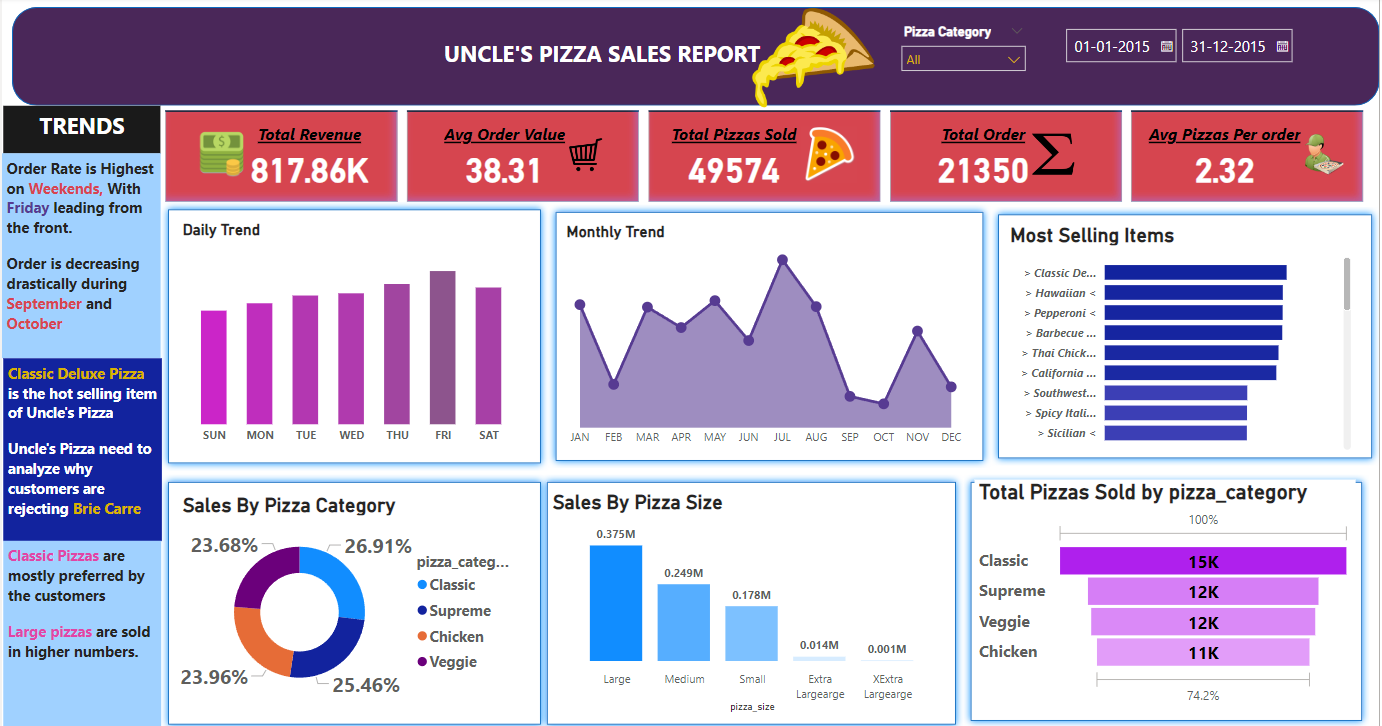

This screenshot's page, from the dashboard's own definition file:
{"tool":"powerbi","page":{"name":"Page 1","canvas":[1500,800],"ordinal":0},"visuals":[{"type":"cardVisual","fields":{"Data":["pizza_sales.Total Revenue","pizza_sales.Average Order Value","pizza_sales.Total Pizzas Sold","pizza_sales.Total Order","pizza_sales.Average Pizzas Per order"]},"box":[172.9,118.5,1316.7,110.3],"z":0},{"type":"shape","box":[10.9,10.9,1489.7,107.6],"z":1000},{"type":"textbox","box":[476.6,40.8,434.4,68.1],"z":2000},{"type":"image","box":[776.1,6.8,215.1,118.5],"z":3000},{"type":"shape","box":[172.9,223.3,422.1,292.8],"z":4000},{"type":"columnChart","title":"Daily Trend","fields":{"Category":["pizza_sales.Order Day"],"Y":["pizza_sales.Total Order"]},"box":[192,243.7,378.5,251.9],"z":5000},{"type":"shape","box":[595,226,482,287.3],"z":6000},{"type":"areaChart","title":"Monthly Trend","fields":{"Category":["pizza_sales.Order Month"],"Y":["pizza_sales.Total Order"]},"box":[610,245.1,443.9,253.3],"z":7000},{"type":"shape","box":[172.9,520.2,422.1,280.5],"z":8000},{"type":"shape","box":[585.5,520.2,461.6,280.5],"z":9000},{"type":"shape","box":[1047.1,520.2,442.5,276.4],"z":10000},{"type":"donutChart","title":"Sales By Pizza Category","fields":{"Category":["pizza_sales.pizza_category"],"Y":["pizza_sales.Total Revenue"]},"box":[192,540.6,378.5,235.6],"z":11000},{"type":"clusteredColumnChart","title":"Sales By Pizza Size","fields":{"Y":["pizza_sales.Total Revenue"],"Category":["pizza_sales.pizza_size"]},"box":[595,537.9,434.4,246.5],"z":12000},{"type":"funnel","fields":{"Category":["pizza_sales.pizza_category"],"Y":["pizza_sales.Total Pizzas Sold"]},"box":[1059.4,525.6,415.3,250.5],"z":13000},{"type":"textbox","box":[1.4,118.5,171.6,51.7],"z":14000},{"type":"textbox","box":[0,170.2,172.9,223.3],"z":15000},{"type":"shape","box":[1077.1,228.8,423.5,281.9],"z":16000},{"type":"barChart","title":"Most Selling Items","fields":{"Category":["pizza_sales.Trim Pizza Name"],"Y":["pizza_sales.Total Order"]},"box":[1093.4,246.5,381.3,251.9],"z":17000},{"type":"textbox","box":[1.4,393.5,172.9,198.8],"z":18000},{"type":"textbox","box":[1,593,172,207],"z":19000},{"type":"slicer","fields":{"Values":["pizza_sales.Order Day"]},"box":[969.5,24.5,155.2,84.4],"z":20000},{"type":"slicer","fields":{"Values":["pizza_sales.order_date"]},"box":[1146.5,24.5,271,76.3],"z":21000}]}

Visuals, with their boxes in screenshot pixels (x1, y1, x2, y2), scaled from the page's 1500x800 canvas onto the 1382x726 screenshot:
cardVisual - pizza_sales.Total Revenue x pizza_sales.Average Order Value: <box>159,108,1372,208</box>
shape: <box>10,10,1381,108</box>
textbox: <box>439,37,839,99</box>
image: <box>715,6,913,114</box>
shape: <box>159,203,548,468</box>
"Daily Trend" columnChart: <box>177,221,526,450</box>
shape: <box>548,205,992,466</box>
"Monthly Trend" areaChart: <box>562,222,971,452</box>
shape: <box>159,472,548,725</box>
shape: <box>539,472,965,725</box>
shape: <box>965,472,1372,723</box>
"Sales By Pizza Category" donutChart: <box>177,491,526,704</box>
"Sales By Pizza Size" clusteredColumnChart: <box>548,488,948,712</box>
funnel - pizza_sales.pizza_category x pizza_sales.Total Pizzas Sold: <box>976,477,1359,704</box>
textbox: <box>1,108,159,154</box>
textbox: <box>0,154,159,357</box>
shape: <box>992,208,1381,463</box>
"Most Selling Items" barChart: <box>1007,224,1359,452</box>
textbox: <box>1,357,161,538</box>
textbox: <box>1,538,159,725</box>
slicer - pizza_sales.Order Day: <box>893,22,1036,99</box>
slicer - pizza_sales.order_date: <box>1056,22,1306,91</box>
